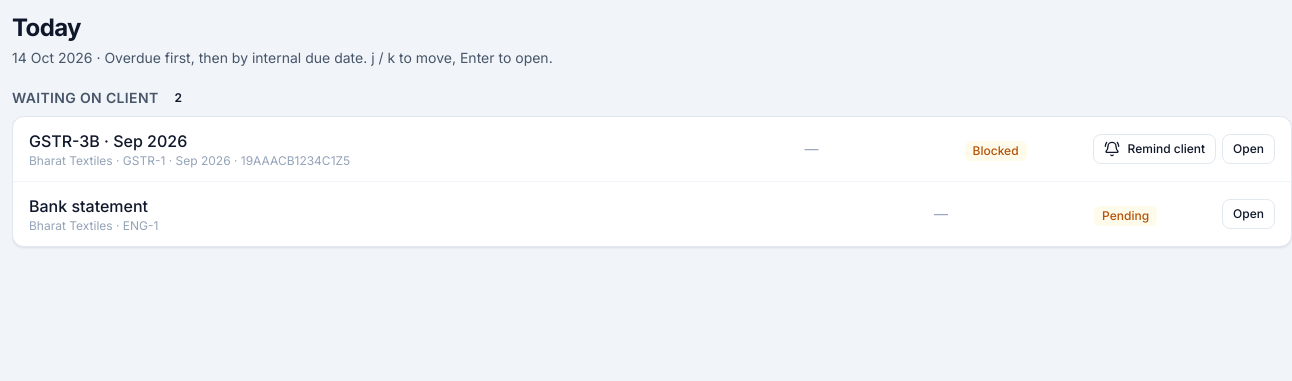
Test: Today page (WF-201) › a filing waiting on the client offers Remind client right on the row (WF-302)
Click the button "Remind client": (1154, 149) 1093,134 -> 1216,164
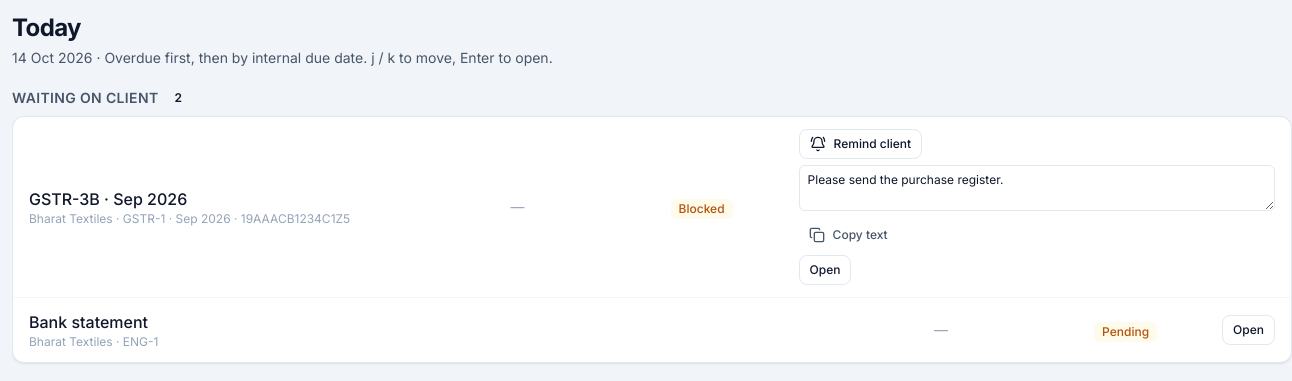
Now the text box showing "Please send the purchase register." is shown, box 799,165 -> 1275,211
